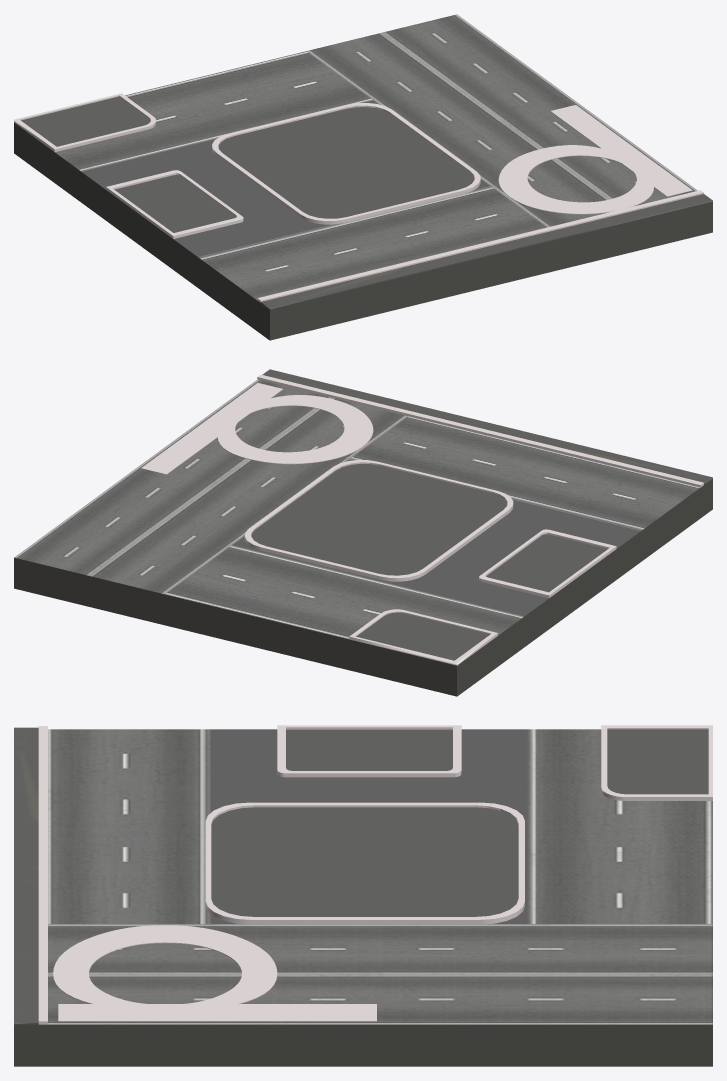
3 views of the same model, one above another, from view 1: azimuth 30°, elevation 25°; view 2: azimuth 150°, elevation 25°; view 3: azimuth 270°, elevation 25° (orthographic). The views are drawn at different scales.
Parts seen in each view (by area): view 1: Box0010, pCube3, Text004; view 2: Box0010, pCube3, Text004; view 3: Box0010, pCube3, Text004.
Boxes of the visible parts, bbox=[...] form: Box0010: bbox=[14, 14, 712, 340]; pCube3: bbox=[212, 103, 480, 224]; Text004: bbox=[498, 105, 692, 214]; Box0010: bbox=[14, 369, 712, 696]; pCube3: bbox=[244, 460, 513, 581]; Text004: bbox=[141, 383, 373, 474]; Box0010: bbox=[14, 725, 712, 1066]; pCube3: bbox=[205, 802, 524, 924]; Text004: bbox=[53, 925, 376, 1021].
Bounding box in the file's own units: 381 × 28.27 × 381.
